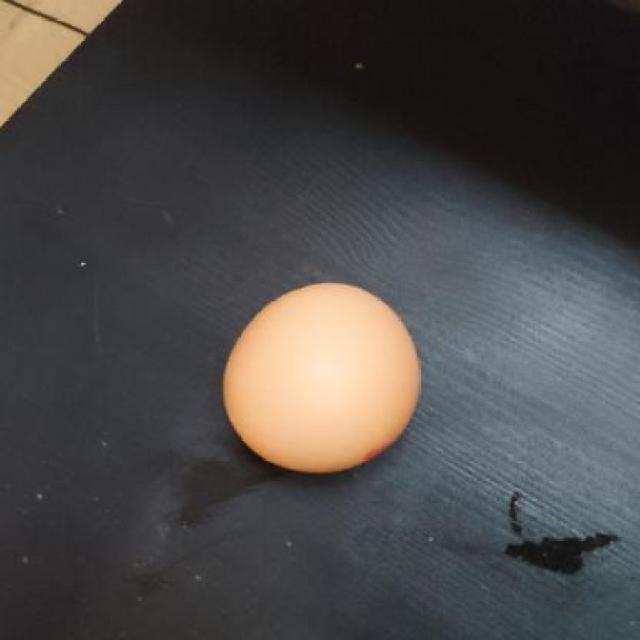biodegradable: (226, 282, 424, 476)
